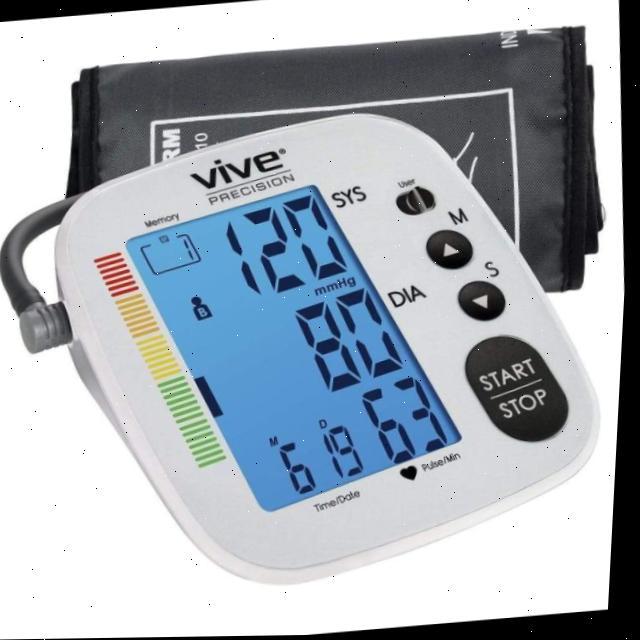dia: (284, 274, 415, 401)
pul: (357, 365, 464, 474)
ssd: (118, 146, 468, 547)
sys: (205, 174, 361, 308)
